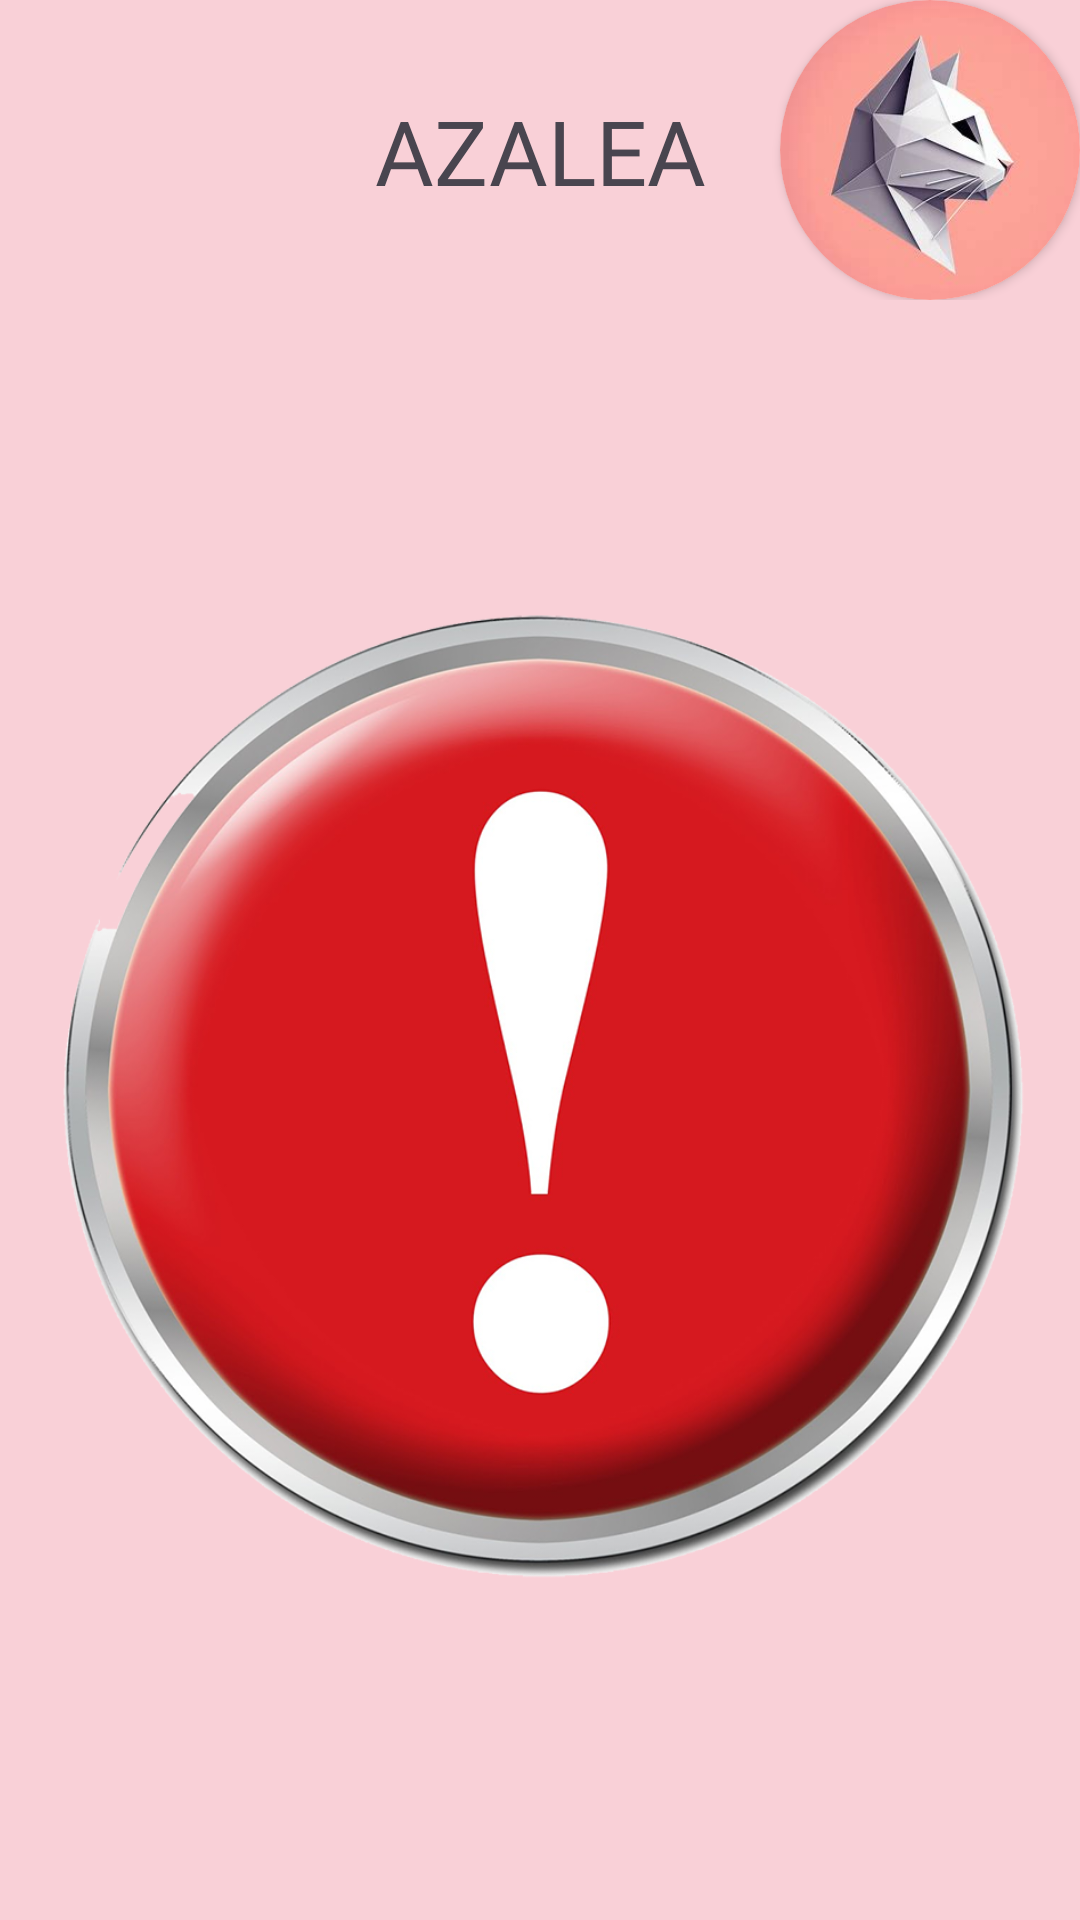

Icon bounding boxes for this 1080x1920 phone screenshot, format bbox=(x1, y1, x2, y2):
Profile Pic: bbox=(780, 0, 1080, 300)
